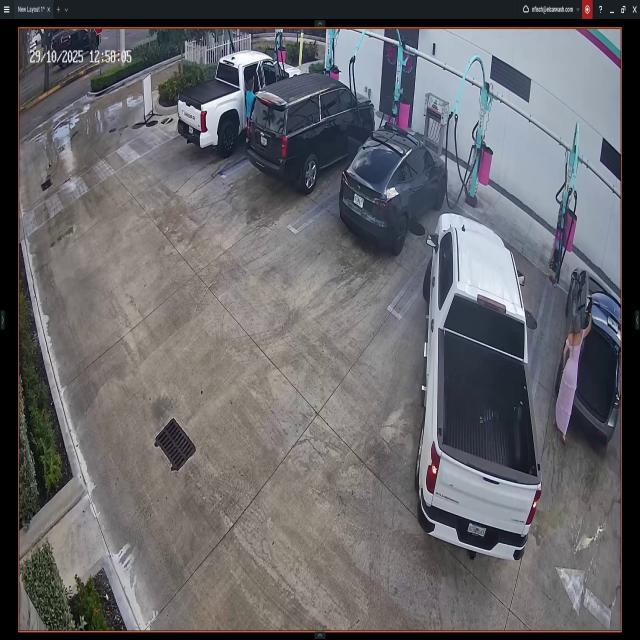Car: (417, 212, 542, 564), (248, 74, 374, 186), (340, 127, 447, 251), (178, 50, 300, 157), (560, 264, 620, 447)
